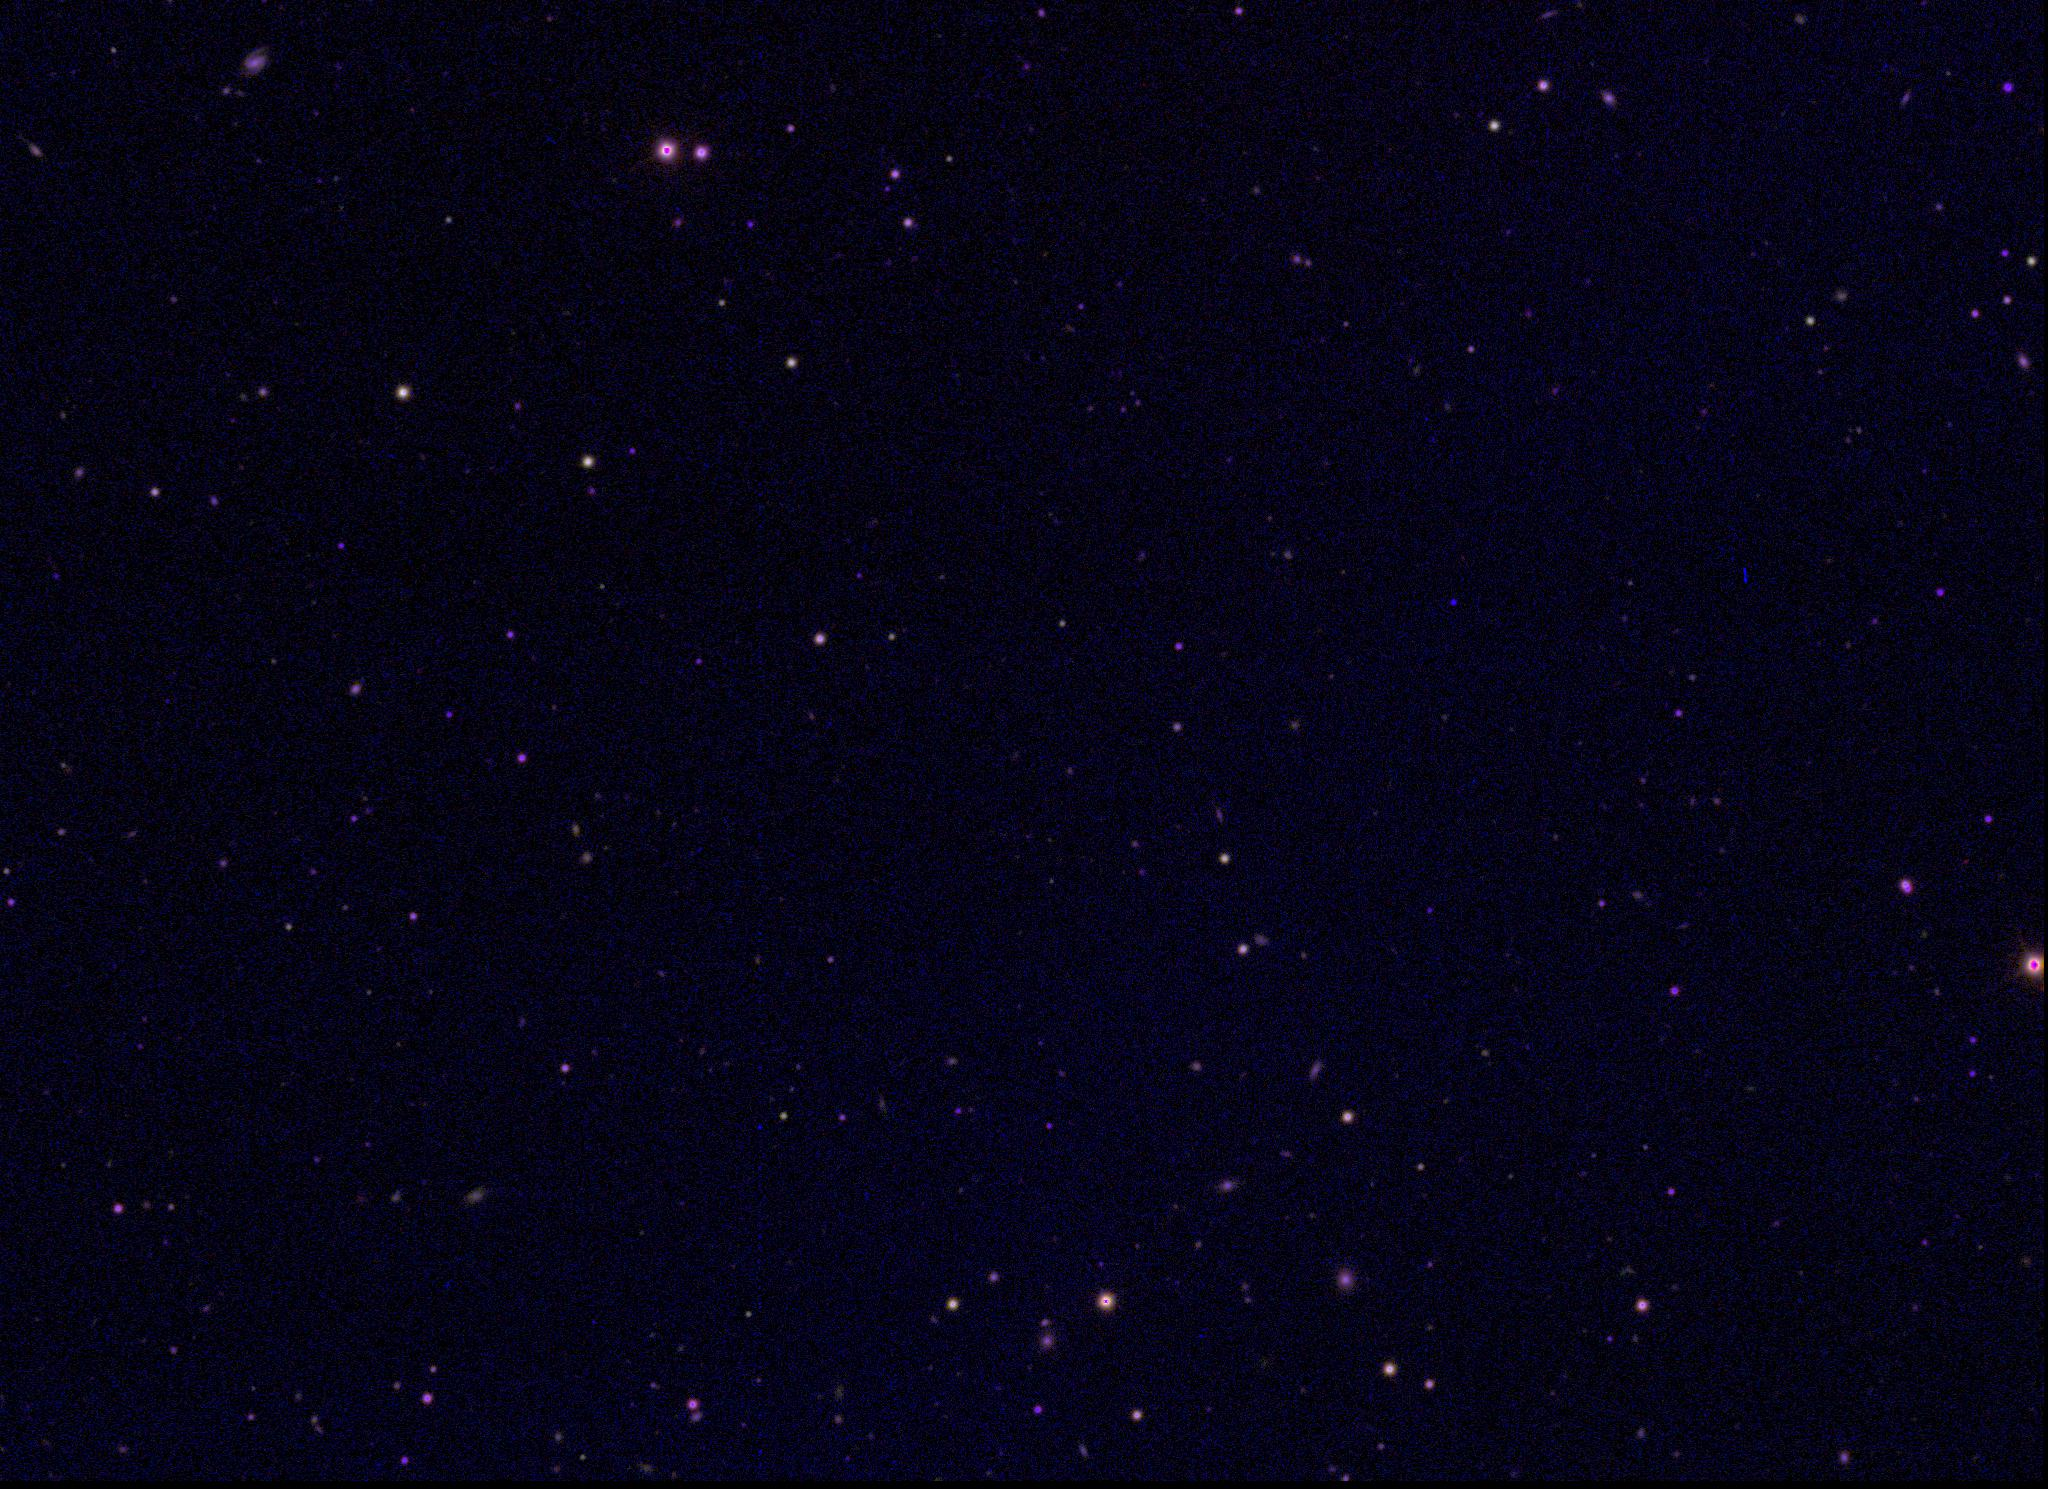L: (1447, 595, 1461, 609)
